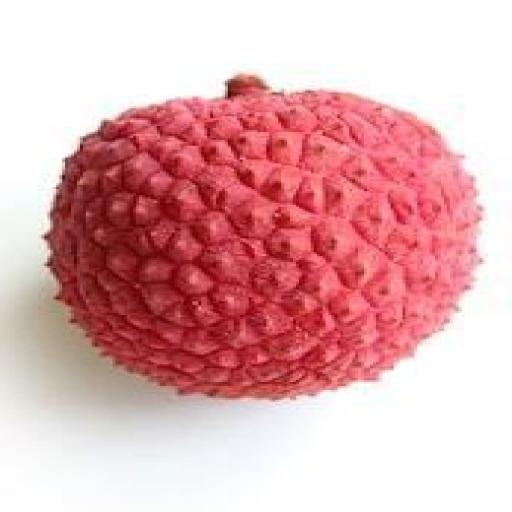lychee: (47, 75, 478, 397)
